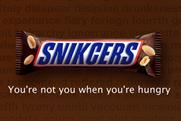snickers: (36, 41, 138, 64)
